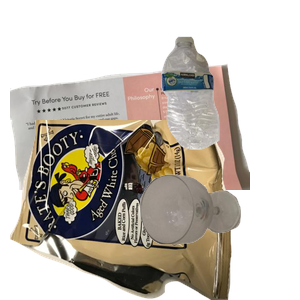glass: (138, 172, 300, 300)
paper: (10, 61, 250, 241)
plastic: (159, 34, 300, 176)
trash: (10, 120, 235, 300)
